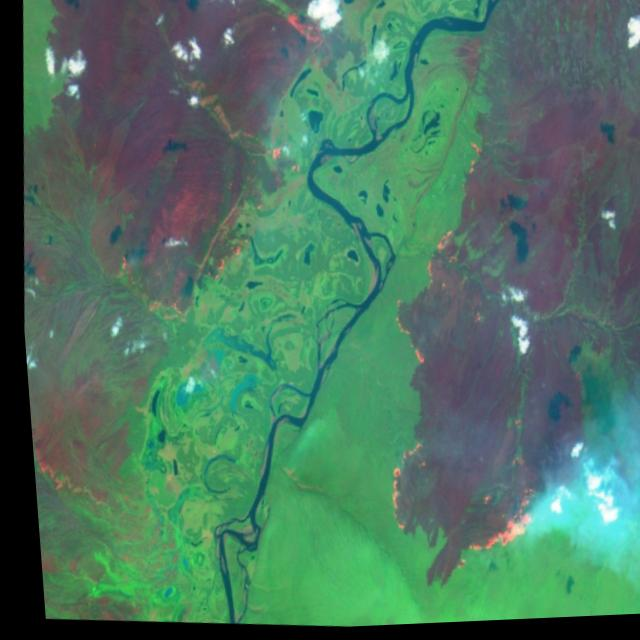fire: (353, 124, 562, 582), (99, 124, 313, 324)
